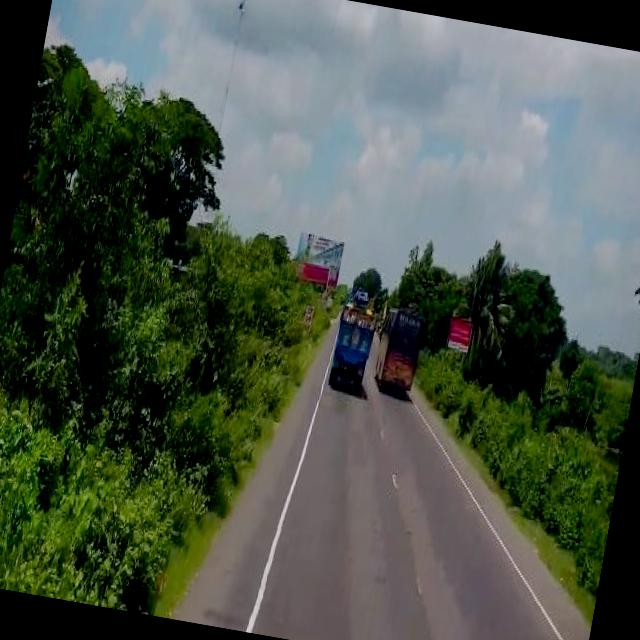bus: (370, 298, 432, 394)
truck: (326, 282, 384, 394)
